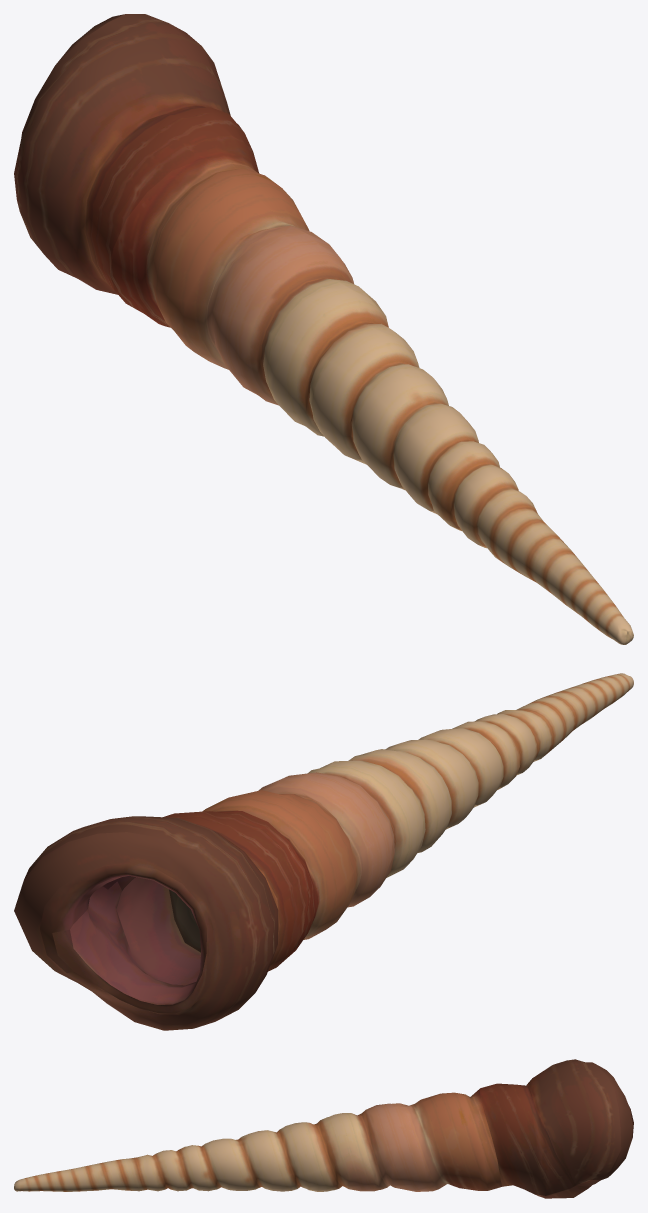
File: shell.fbx
The picture shows the model from 3 angles, top to bottom: view 1: azimuth 30°, elevation 25°; view 2: azimuth 150°, elevation 25°; view 3: azimuth 270°, elevation 25°; orthographic projection. The views are drawn at different scales.
Parts seen in each view (by area): view 1: node_id62; view 2: node_id62; view 3: node_id62.
Part boxes in pixels (x1,y1,x2,y2): node_id62: (14,14,633,644); node_id62: (14,673,633,1030); node_id62: (14,1059,633,1198).
Size of the model in its own units: 0.512 by 0.4974 by 2.2.
1 material, 1 textured.
